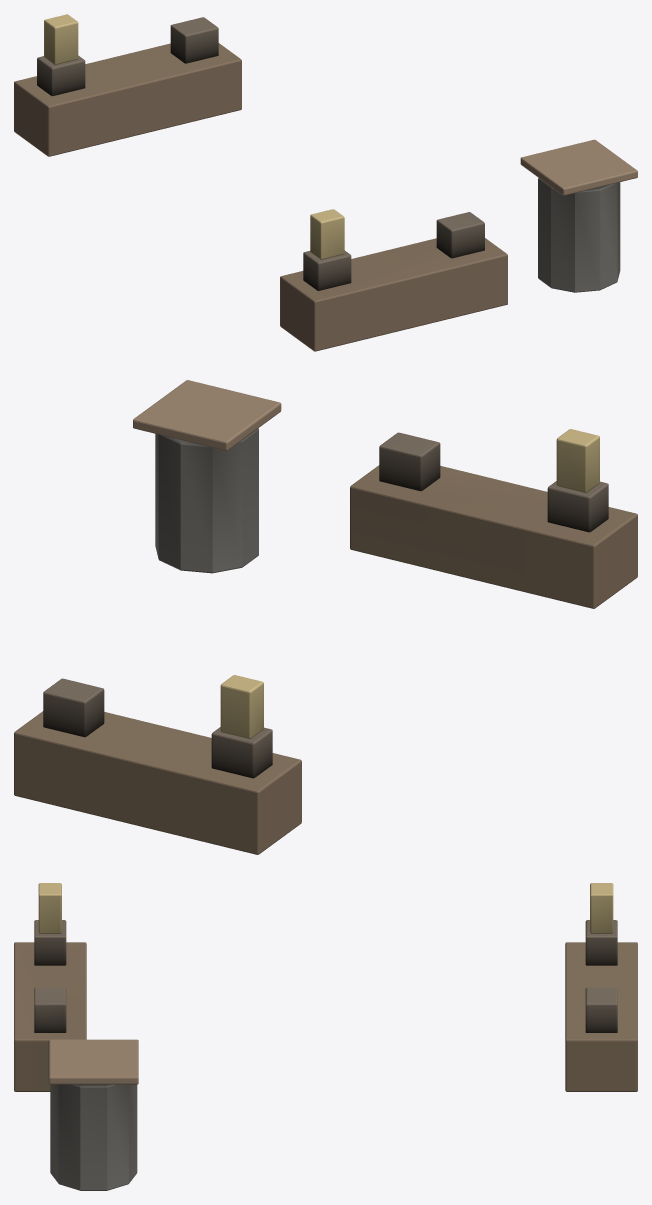
File: greenhouse_l1.glb
3 renders of one model, top to bottom at view 1: azimuth 30°, elevation 25°; view 2: azimuth 150°, elevation 25°; view 3: azimuth 270°, elevation 25°, orthographic. The views are drawn at different scales.
Visible parts, largest first — view 1: rack; view 2: rack; view 3: rack.
Boxes of the visible parts, x1=… form: rack: x1=14, y1=14, x2=637, y2=351; rack: x1=14, y1=380, x2=637, y2=854; rack: x1=14, y1=883, x2=637, y2=1190.
Bounding box in the file's own units: 2.81 × 1.12 × 4.3.
